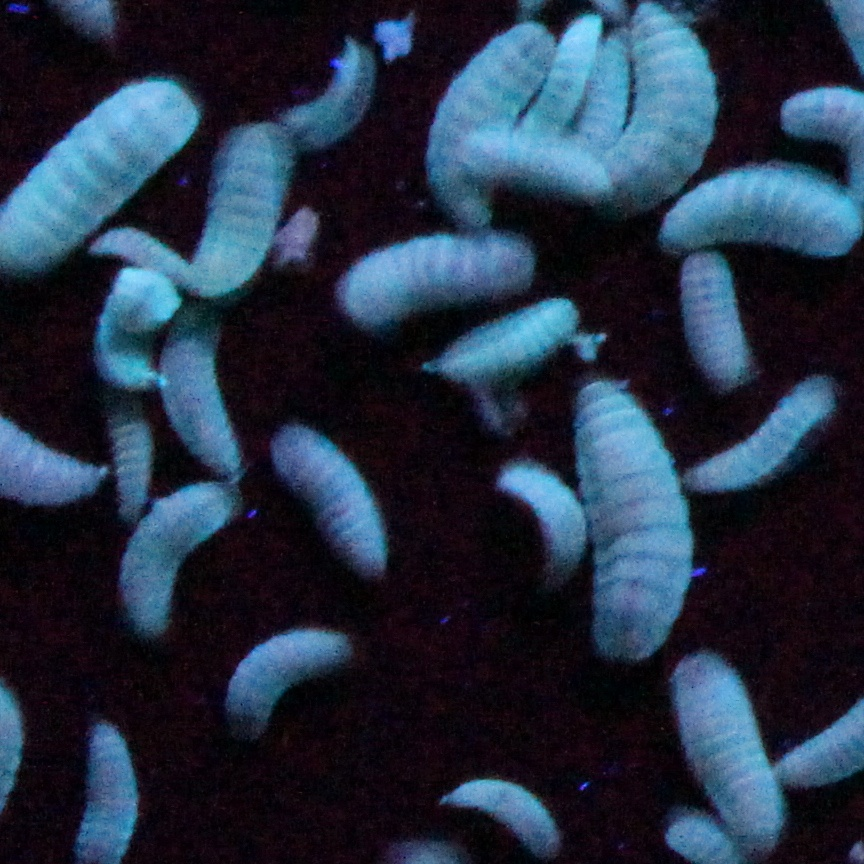larve: (7, 76, 202, 279), (573, 379, 695, 664), (424, 25, 563, 223), (662, 647, 782, 849), (178, 128, 297, 298), (336, 235, 543, 330), (273, 420, 392, 574), (697, 379, 841, 498), (124, 479, 231, 630), (160, 303, 243, 484), (224, 625, 348, 740), (460, 120, 609, 203), (431, 301, 580, 381), (433, 767, 557, 863), (280, 37, 380, 152), (497, 462, 587, 589), (678, 250, 756, 386), (519, 15, 604, 137), (95, 269, 173, 389), (578, 15, 634, 140), (99, 398, 153, 525), (92, 225, 195, 279)
